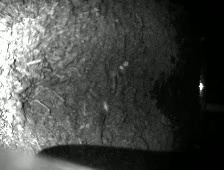corn: (122, 60, 130, 68), (103, 102, 110, 111), (118, 65, 125, 70)
